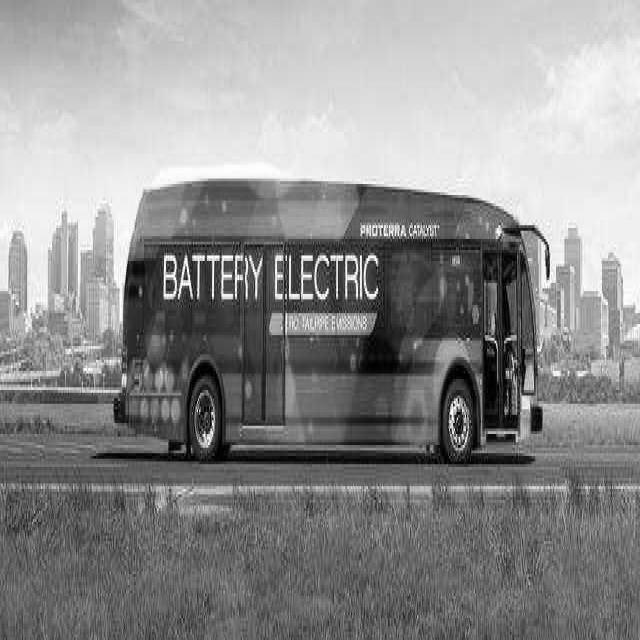Bus: (115, 178, 541, 462)
